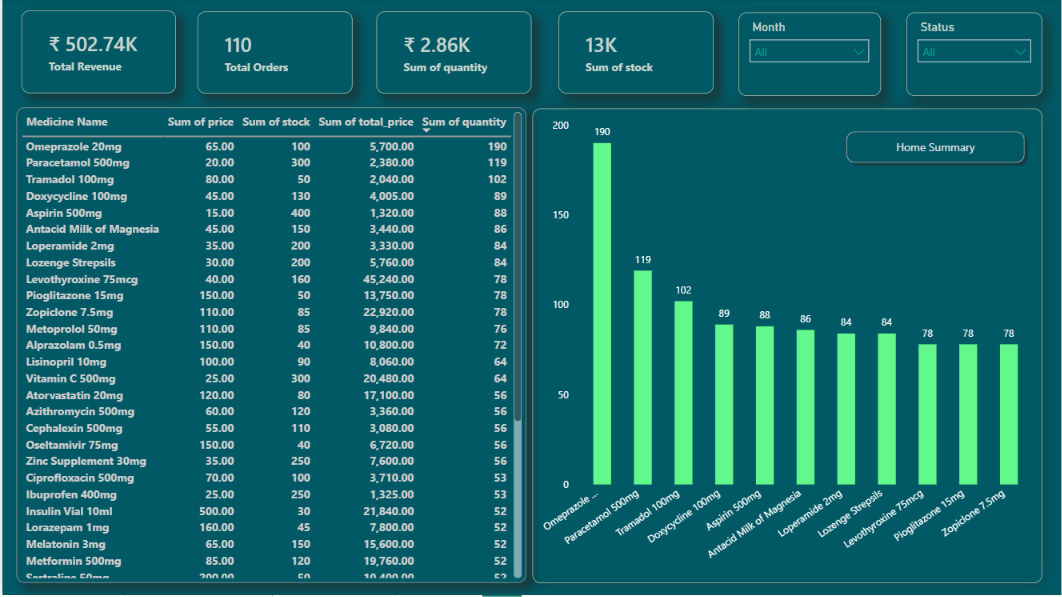

This screenshot's page, from the dashboard's own definition file:
{"tool":"powerbi","page":{"name":"Medicine Store","canvas":[1280,720],"ordinal":2},"visuals":[{"type":"cardVisual","fields":{"Data":["Sum(sql12830320 medicine_purchases.total_price)"]},"box":[22.4,14.9,186.3,99.9],"z":0},{"type":"cardVisual","fields":{"Data":["CountNonNull(sql12830320 medicines.id)"]},"box":[234.8,15.5,187.1,99.4],"z":1000},{"type":"tableEx","fields":{"Values":["sql12830320 medicines.name","Sum(sql12830320 medicines.price)","Sum(sql12830320 medicines.stock)","Sum(sql12830320 medicine_purchases.total_price)","Sum(sql12830320 medicine_purchases.quantity)"]},"box":[16.4,131.2,615.6,573.8],"z":2000},{"type":"cardVisual","fields":{"Data":["Sum(sql12830320 medicine_purchases.quantity)"]},"box":[451.6,15.5,187.1,99.4],"z":3000},{"type":"lineStackedColumnComboChart","fields":{"Category":["sql12830320 medicines.name"],"Y":["Sum(sql12830320 medicine_purchases.quantity)"]},"box":[640,132.9,615.5,572.9],"z":4000},{"type":"slicer","fields":{"Values":["sql12830320 appointments.appointment_date.Variation.Date Hierarchy.Month"]},"box":[887.7,16.8,171.6,100.6],"z":5000},{"type":"cardVisual","fields":{"Data":["Sum(sql12830320 medicines.stock)"]},"box":[671,15.5,187.1,99.4],"z":7000},{"type":"slicer","fields":{"Values":["sql12830320 medicine_purchases.status"]},"box":[1090.3,16.8,163.9,100.6],"z":8000},{"type":"pageNavigator","box":[1011.6,154.8,227.1,50.3],"z":9000}]}

Visuals, with their boxes in screenshot pixels (x1, y1, x2, y2), scaled from the page's 1280x720 canvas onto the 1062x597 screenshot:
cardVisual - Sum(sql12830320 medicine_purchases.total_price): (left=19, top=12, right=173, bottom=95)
cardVisual - CountNonNull(sql12830320 medicines.id): (left=195, top=13, right=350, bottom=95)
tableEx - sql12830320 medicines.name x Sum(sql12830320 medicines.price): (left=14, top=109, right=524, bottom=585)
cardVisual - Sum(sql12830320 medicine_purchases.quantity): (left=375, top=13, right=530, bottom=95)
lineStackedColumnComboChart - sql12830320 medicines.name x Sum(sql12830320 medicine_purchases.quantity): (left=531, top=110, right=1042, bottom=585)
slicer - sql12830320 appointments.appointment_date.Variation.Date Hierarchy.Month: (left=737, top=14, right=879, bottom=97)
cardVisual - Sum(sql12830320 medicines.stock): (left=557, top=13, right=712, bottom=95)
slicer - sql12830320 medicine_purchases.status: (left=905, top=14, right=1041, bottom=97)
pageNavigator: (left=839, top=128, right=1028, bottom=170)
